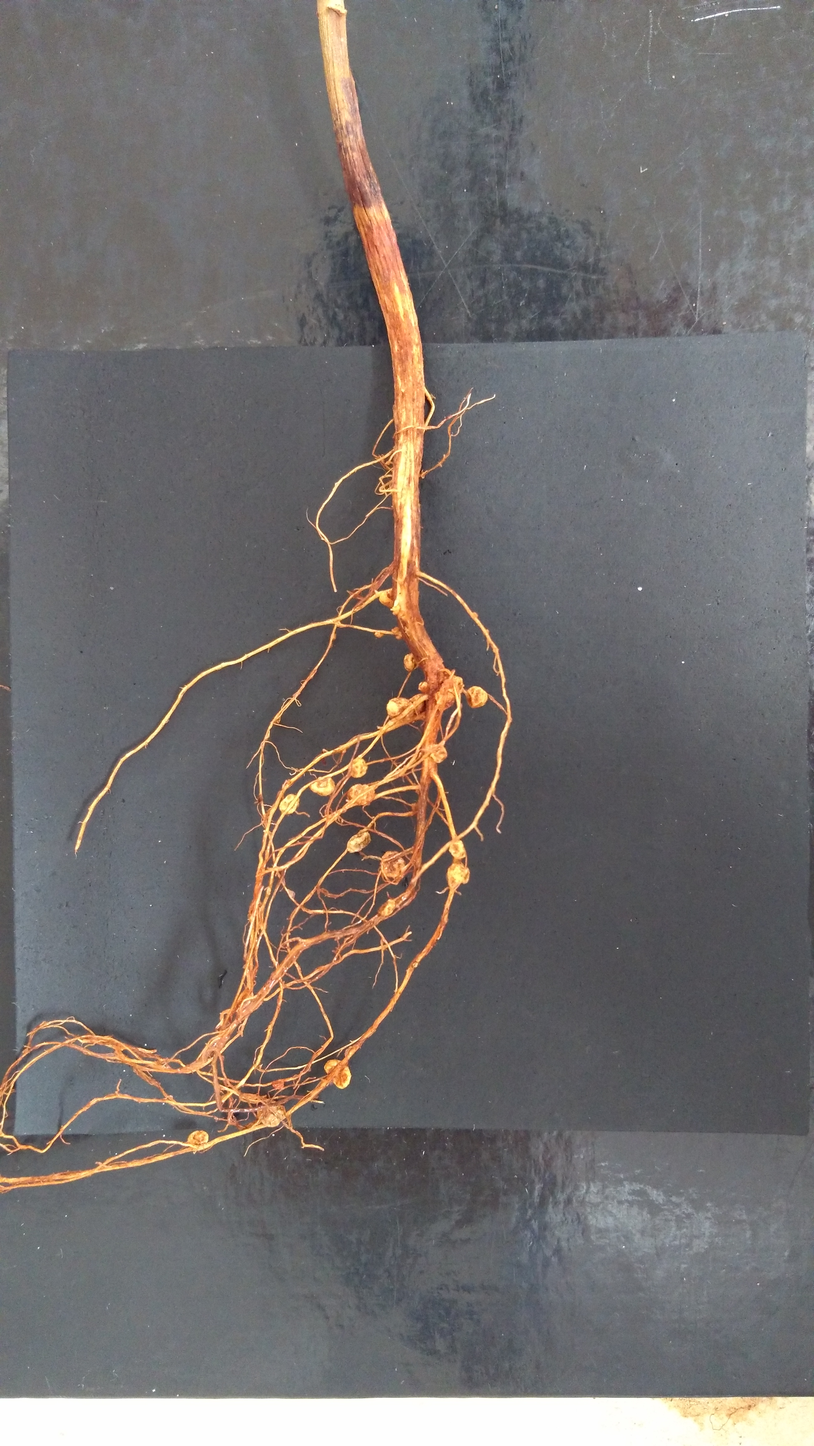nodule: (434, 675, 464, 712), (380, 850, 407, 885), (323, 1059, 352, 1089), (444, 861, 470, 890), (384, 696, 414, 721), (259, 1104, 287, 1129), (346, 783, 376, 806), (345, 830, 372, 854), (465, 685, 489, 709), (309, 776, 336, 797), (348, 757, 369, 779), (376, 896, 397, 918), (279, 793, 300, 814), (429, 743, 448, 765), (409, 693, 427, 716), (448, 839, 467, 860), (187, 1128, 209, 1145), (378, 590, 394, 609), (403, 652, 416, 673), (390, 626, 403, 642), (270, 1080, 285, 1091), (417, 681, 429, 693), (344, 1045, 354, 1059), (390, 605, 401, 616), (373, 632, 385, 639)
